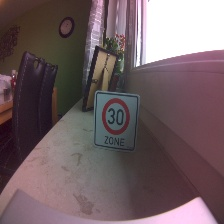dreisiger_zone: (93, 90, 140, 154)
